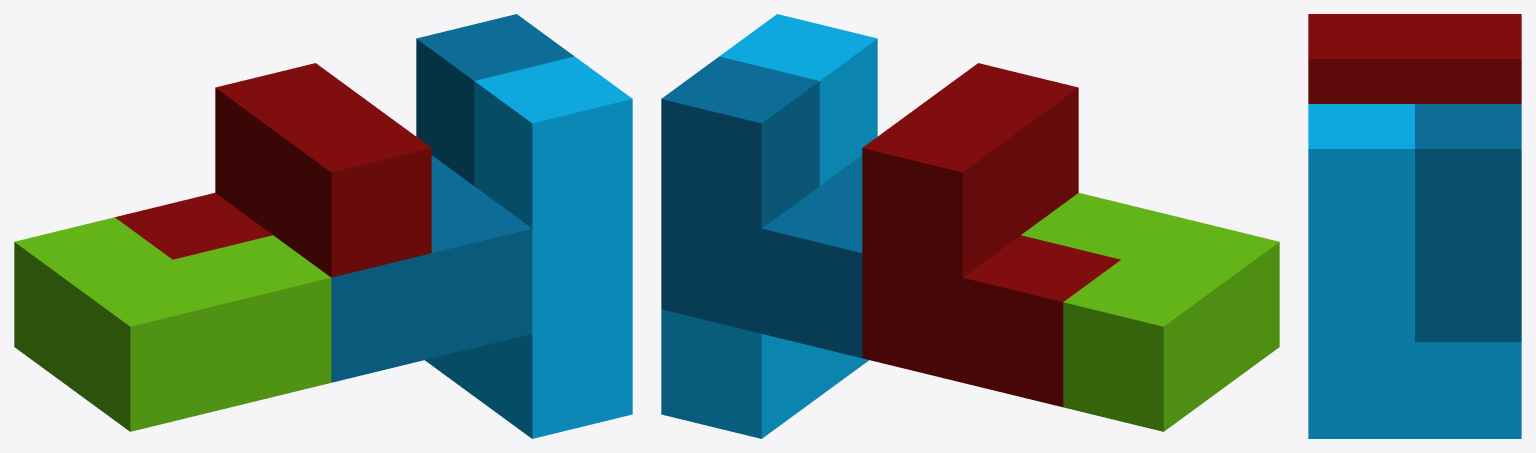
The picture shows the model from 3 angles, left to right: view 1: azimuth 30°, elevation 25°; view 2: azimuth 150°, elevation 25°; view 3: azimuth 270°, elevation 25°; orthographic projection. The views are drawn at different scales.
Parts seen in each view (by area): view 1: mergedBlocks(Clone); view 2: mergedBlocks(Clone); view 3: mergedBlocks(Clone).
Boxes of the visible parts, left/top/right/bottom form: mergedBlocks(Clone): left=14, top=14, right=632, bottom=438; mergedBlocks(Clone): left=661, top=14, right=1279, bottom=438; mergedBlocks(Clone): left=1308, top=14, right=1521, bottom=438.
Bounding box in the file's own units: 5 × 3 × 2.
4 materials, 4 textured.
